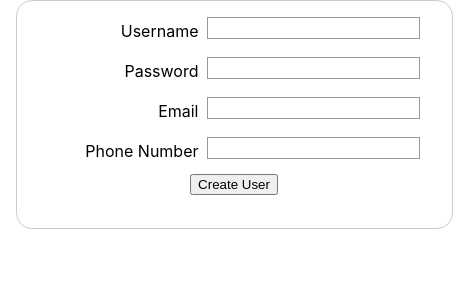
Test: When the POST returns validation failures, the error messages are shown next to the relevant fields.
fill in the form fields and submit
Type "takenuser" into the field next to "Username".
click(313, 28); type("takenuser")  # box [206,17,420,39]
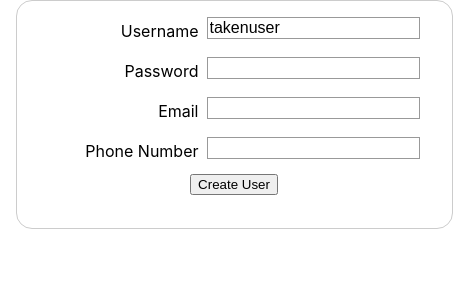
Type "secret123" into the password field.
click(313, 68); type("secret123")  # box [206,57,420,79]
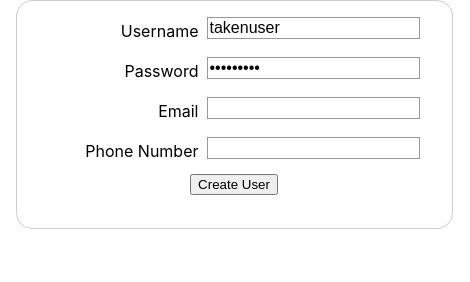
Type "taken@example.com" into the field next to "Email".
click(313, 108); type("taken@example.com")  # box [206,97,420,119]
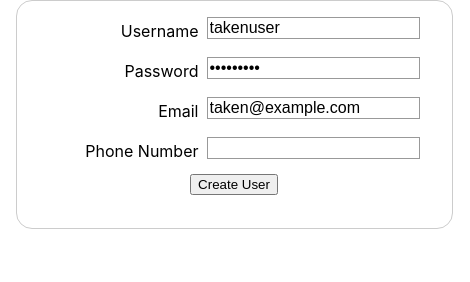
Submit the form from the button "Create User", box [190,174,278,195]
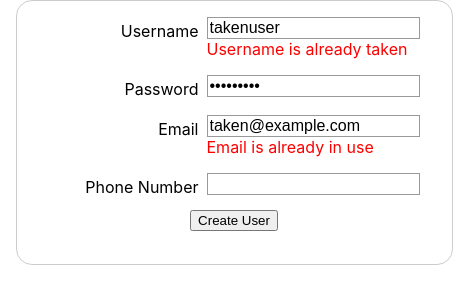
Expected: the text "Email is already in use" is shown, [206,137,374,157]
Expected: the text "Username is already taken" is shown, [206,39,420,59]
